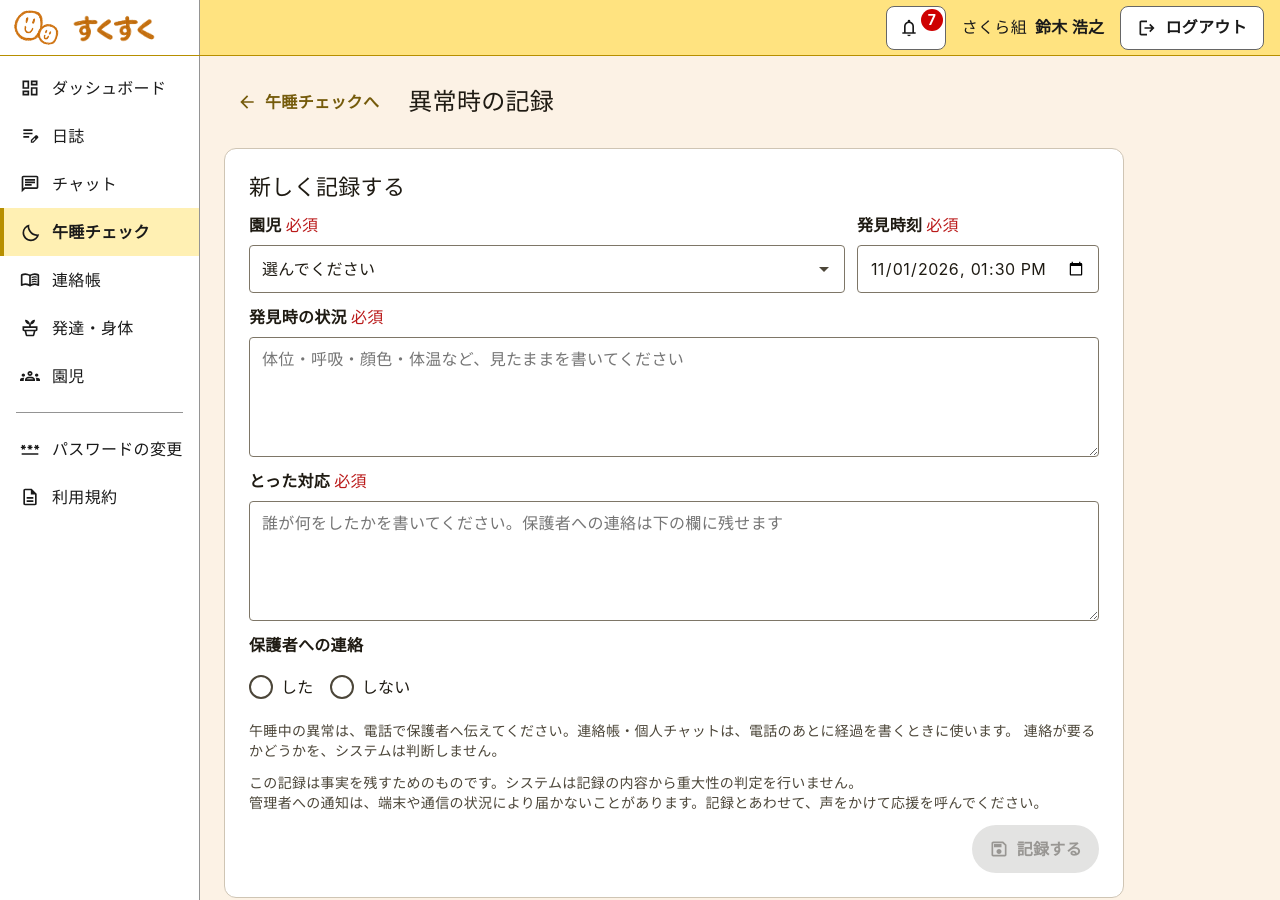
it: 異常時記録画面（GitHub Issue #158） › 発見時刻を空にすると「記録する」を押せない（画面詳細図 5-2 項目3「入力：必須」）
Select "伊藤 葵" in the dropdown labelled "園児": (547,269) [249,245,845,293]
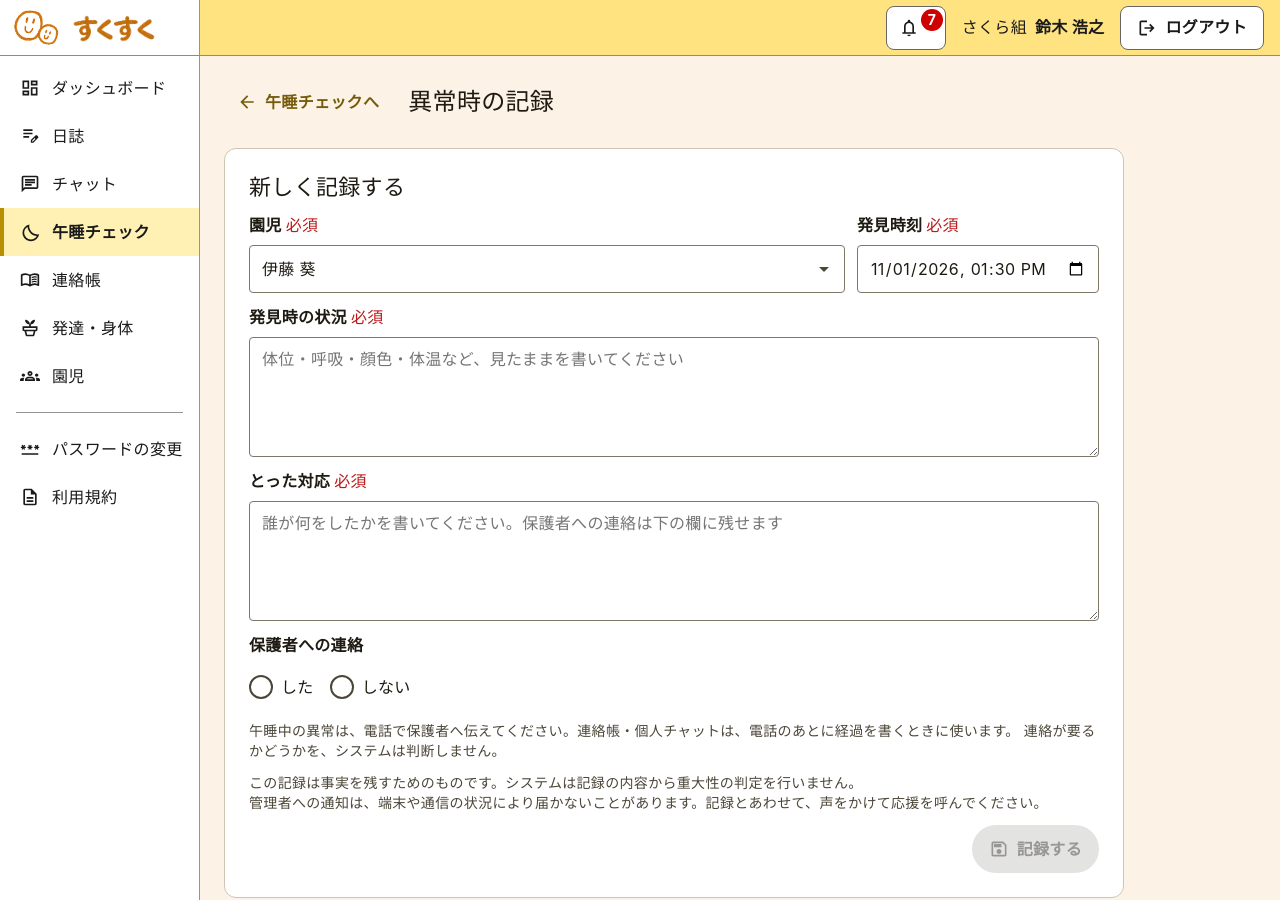
In the text box labelled "発見時の状況": (674,397) [249,337,1099,457], type "顔色がやや紅潮していた"
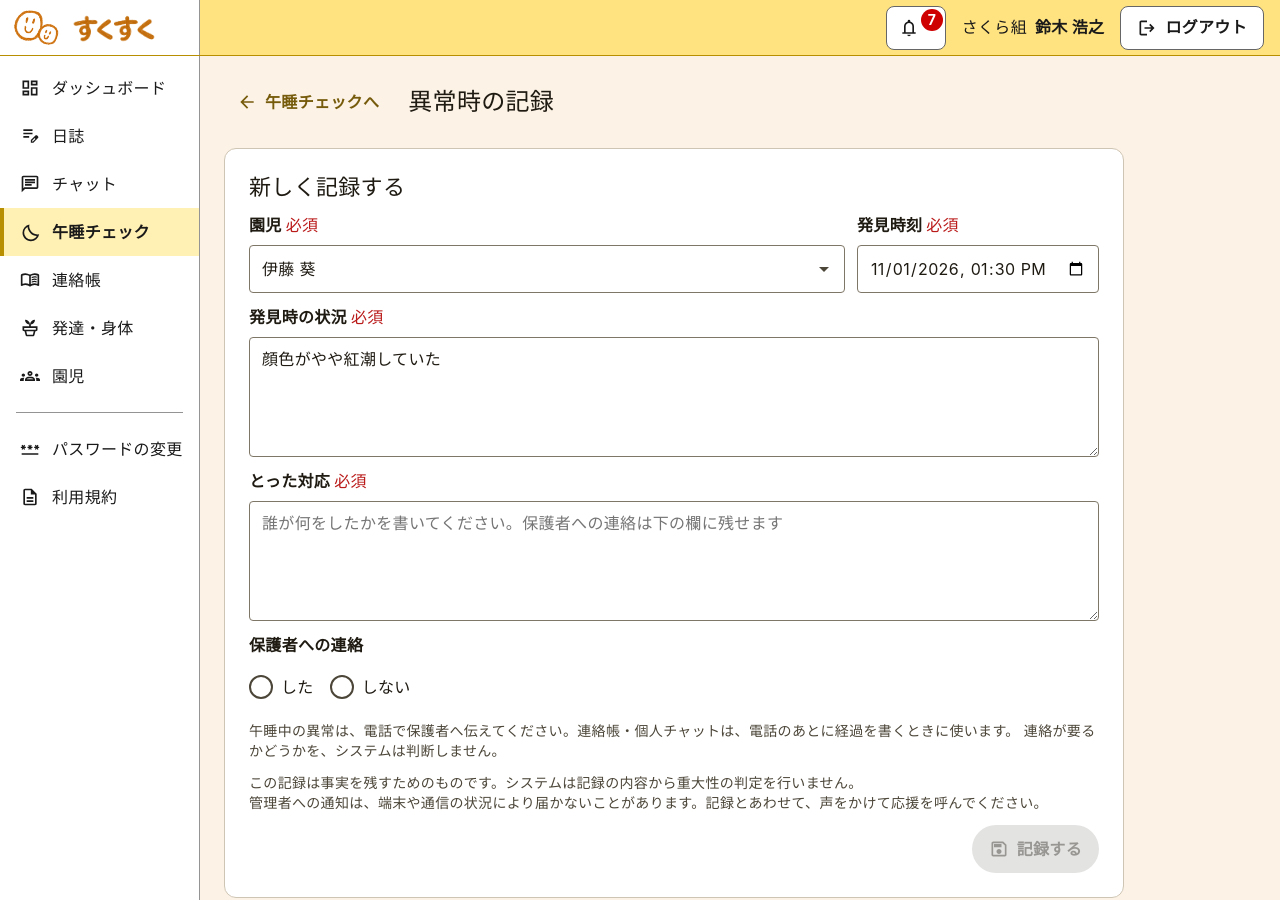
In the text box labelled "とった対応": (674,561) [249,501,1099,621], type "別室で休ませた"
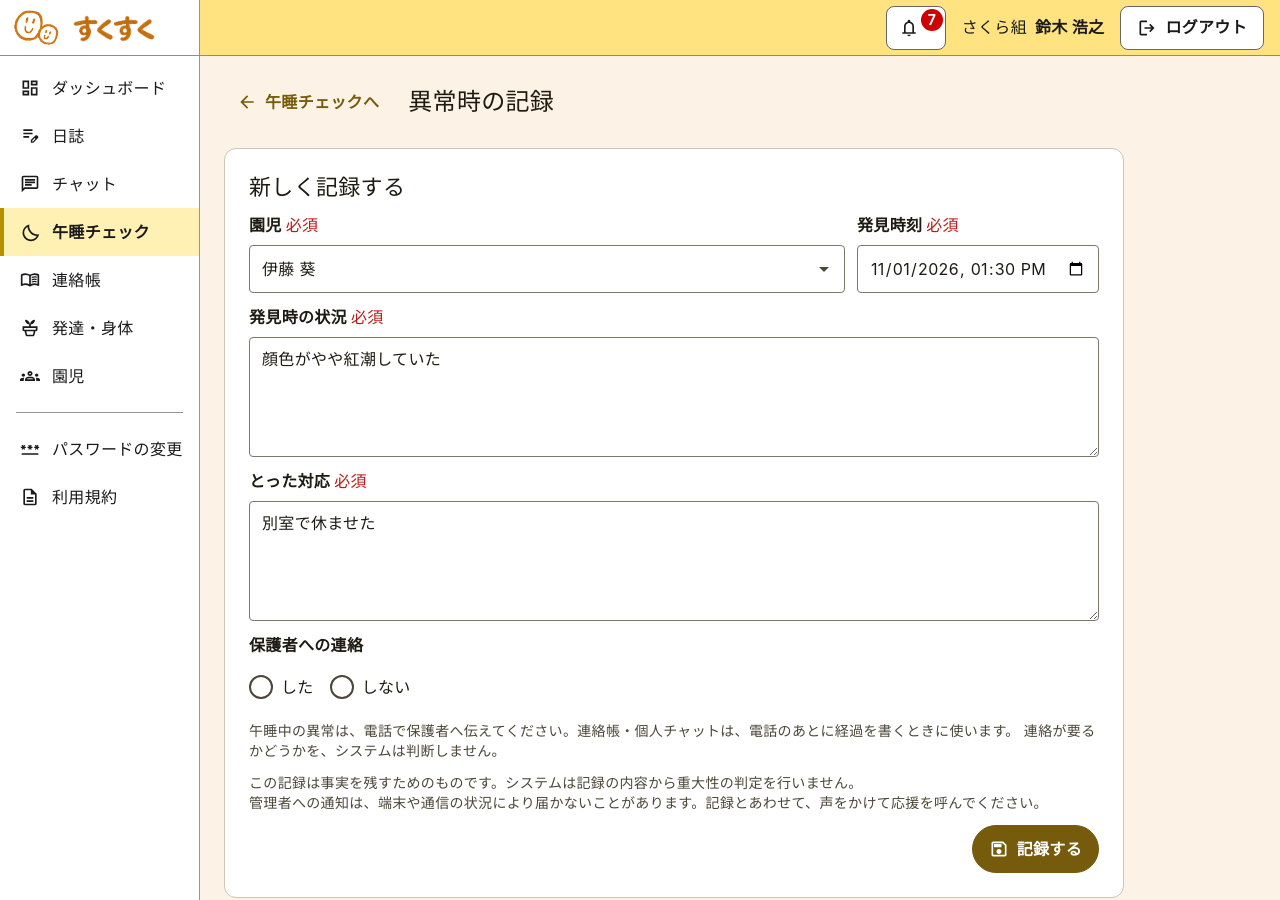
Expected: the button "記録する" is enabled, [972,825,1099,873]
Clear the field labelled "発見時刻": (978,269) [857,245,1099,293]
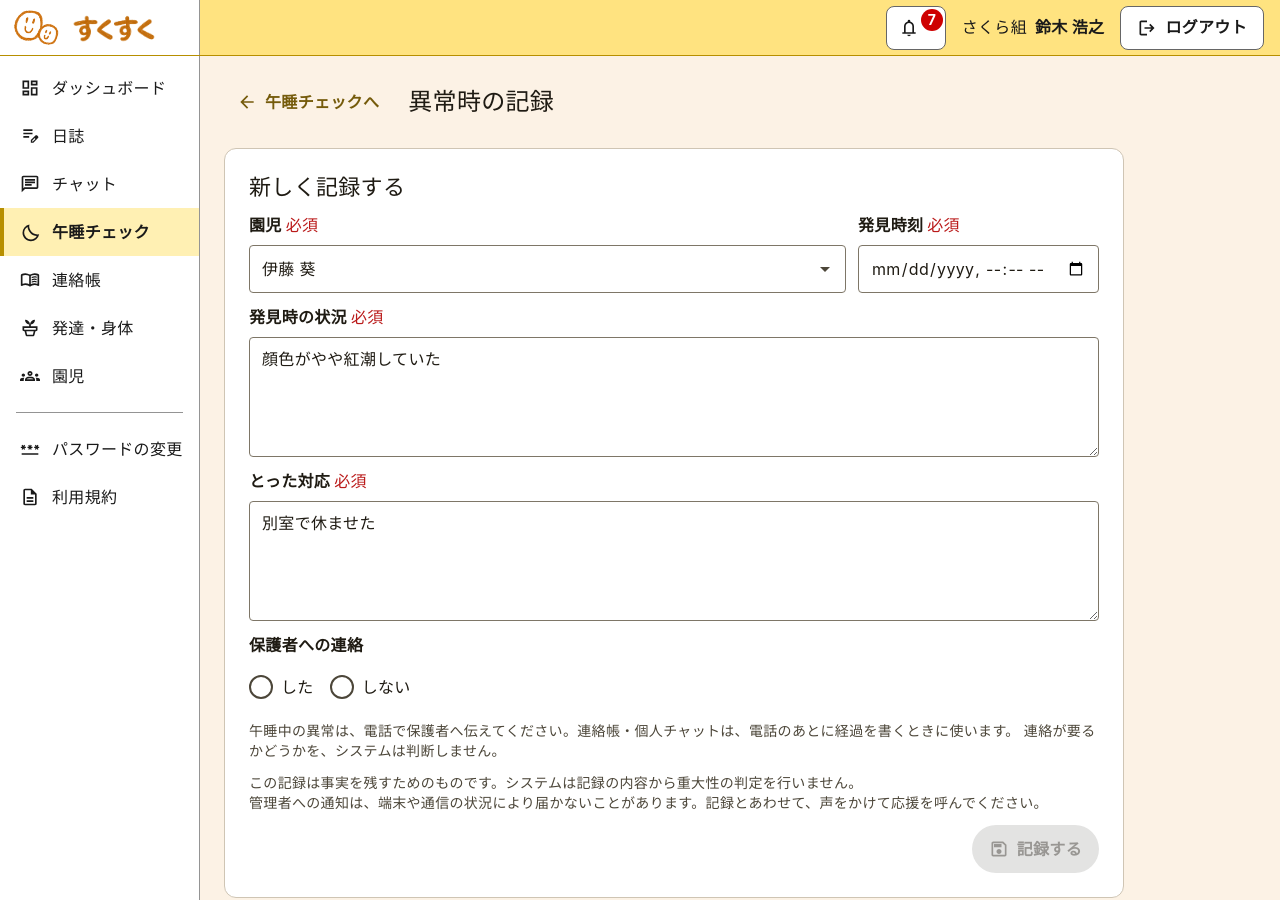
Expected: the button "記録する" is disabled, [972,825,1099,873]
